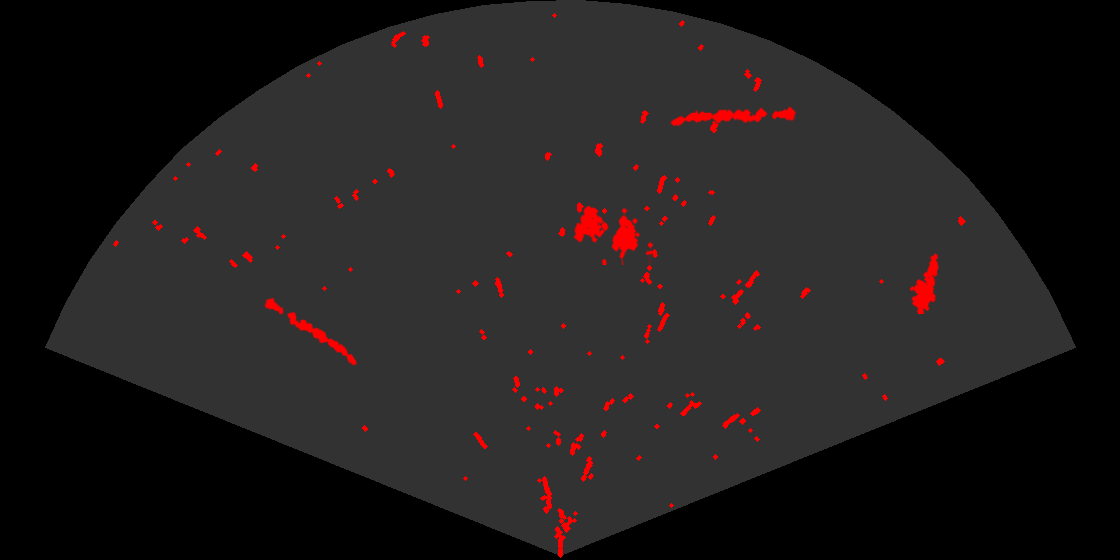cage: (572, 204, 653, 265)
chain: (263, 296, 358, 367), (669, 105, 797, 128)
frogman: (908, 252, 940, 314)
